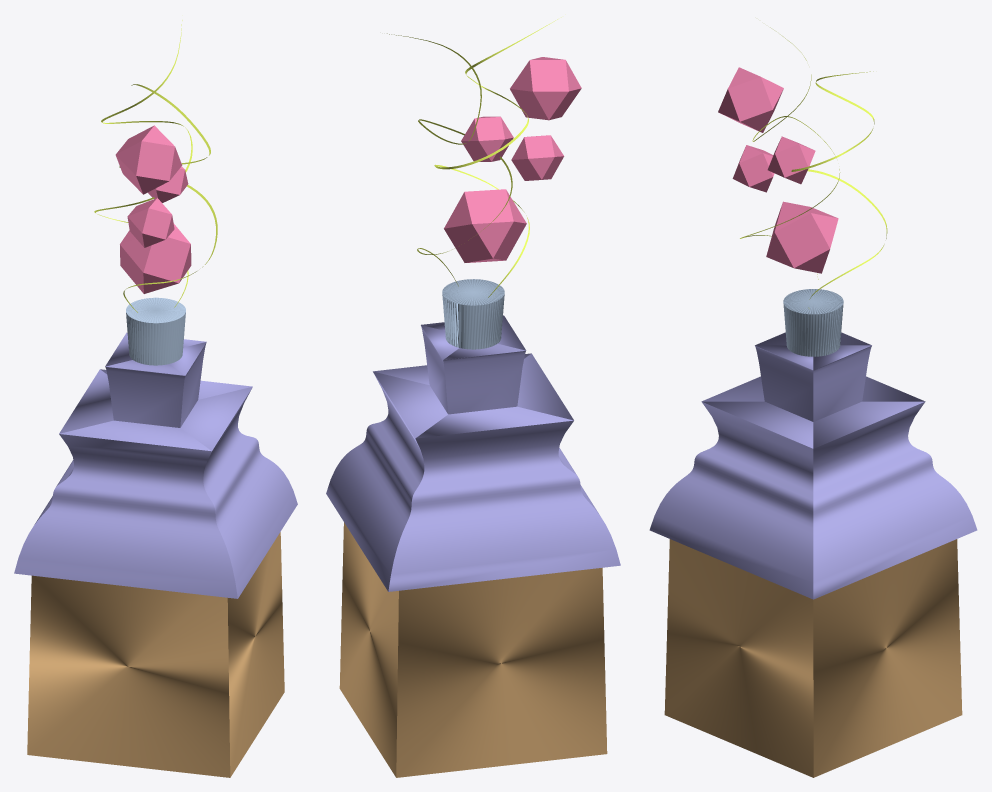
The model's file is abstracthouse.fbx.
The picture shows the model from 3 angles, left to right: view 1: azimuth 30°, elevation 25°; view 2: azimuth 150°, elevation 25°; view 3: azimuth 270°, elevation 25°; orthographic projection. The views are drawn at different scales.
Visible parts, largest first — view 1: abstracthouse; view 2: abstracthouse; view 3: abstracthouse.
Boxes of the visible parts, x1,y1,x2,y2 form: abstracthouse: [14, 20, 297, 777]; abstracthouse: [326, 17, 620, 777]; abstracthouse: [649, 27, 977, 777].
Size of the model in its own units: 54.36 by 123 by 54.36.
